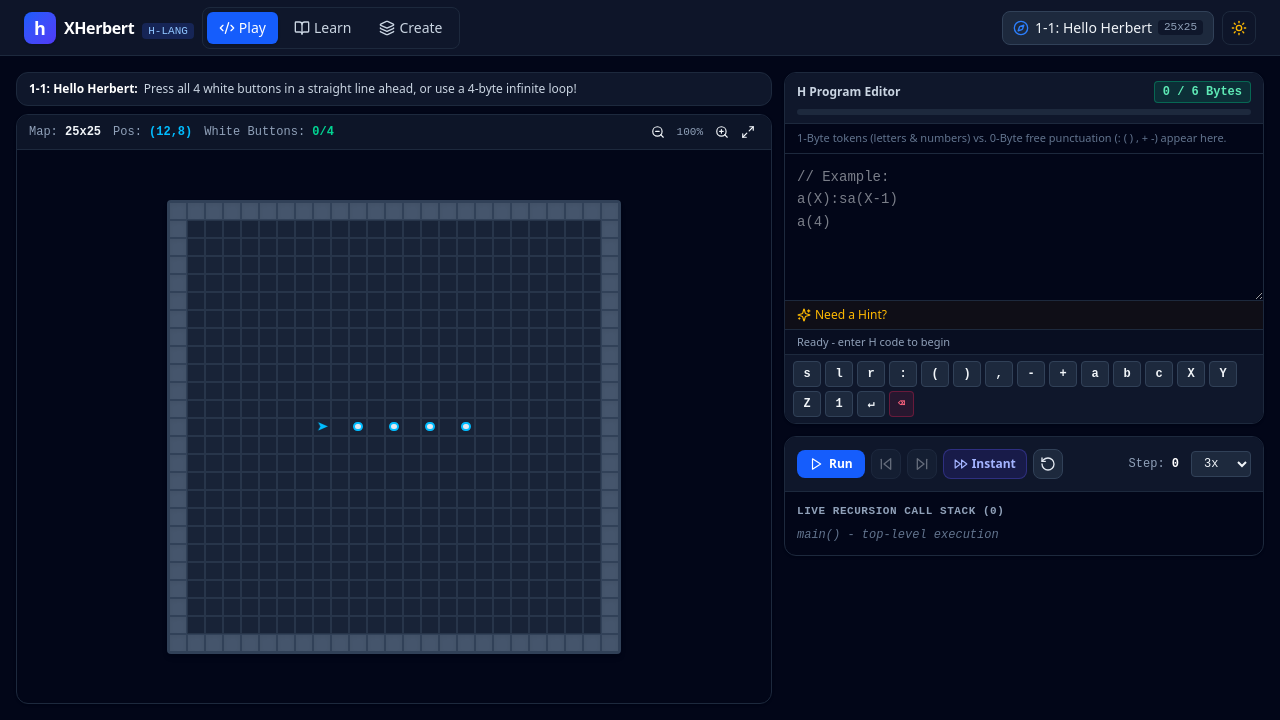
Test: XHerbert Full UI Integration Tests (Play, Learn, Create & Theme) › navigates to Create mode, resizes grid to even rectangular 30x26, saves custom level, and batch-imports .txt files
Click the button with test id "nav-create": (411, 28) [368,12,455,44]
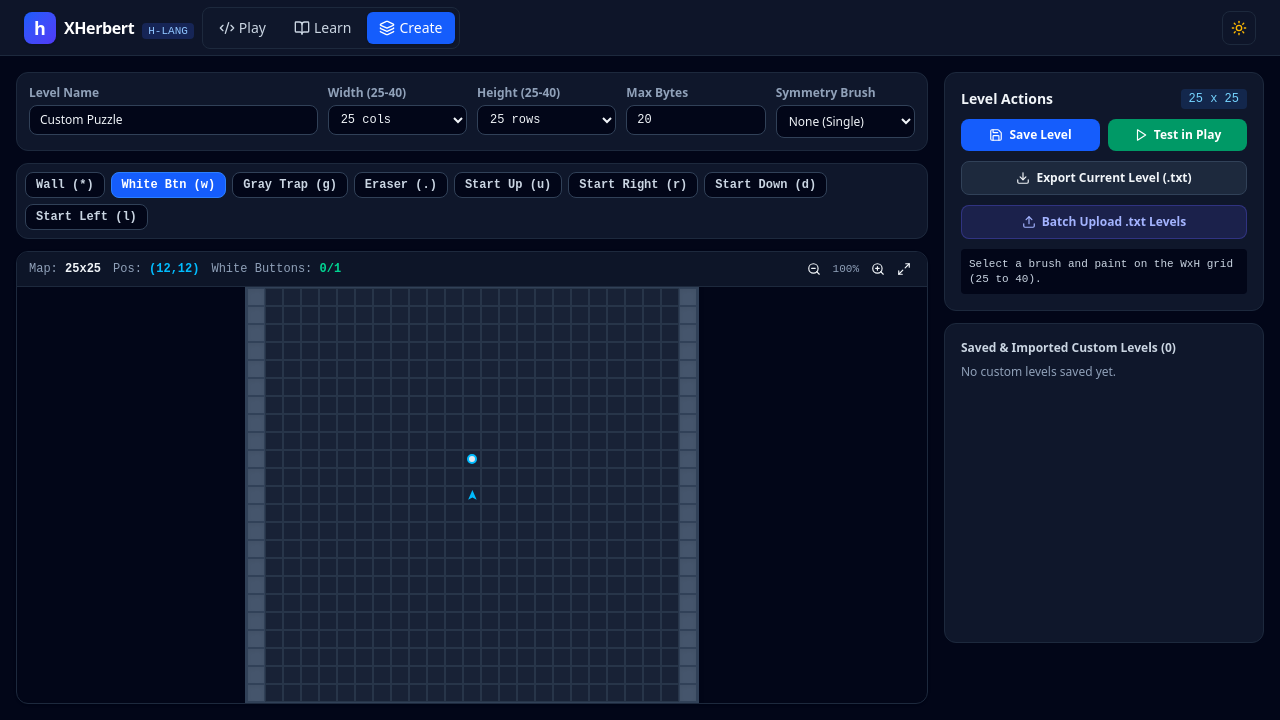
Result: the element with test id "editor-workspace" is shown
Select "30 cols" in the dropdown with test id "editor-width-select": (397, 120) [328,105,467,135]
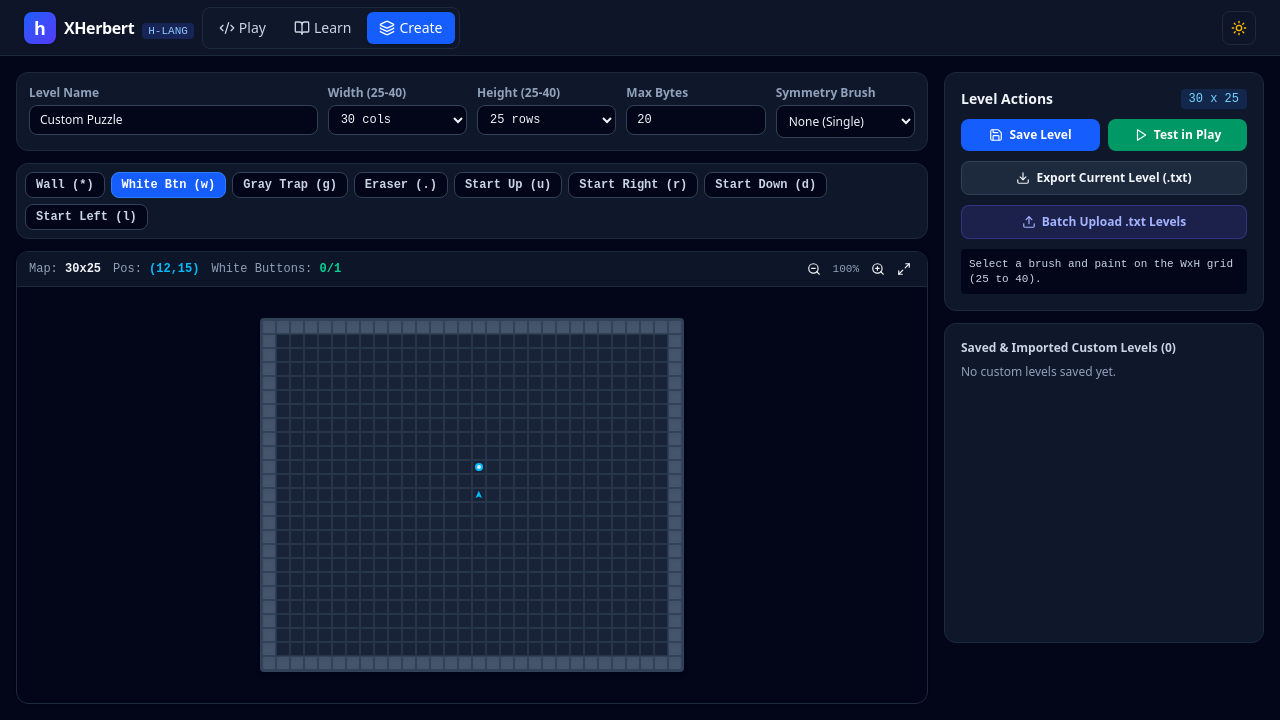
Select "26 rows" in the dropdown with test id "editor-height-select": (547, 120) [477,105,616,135]
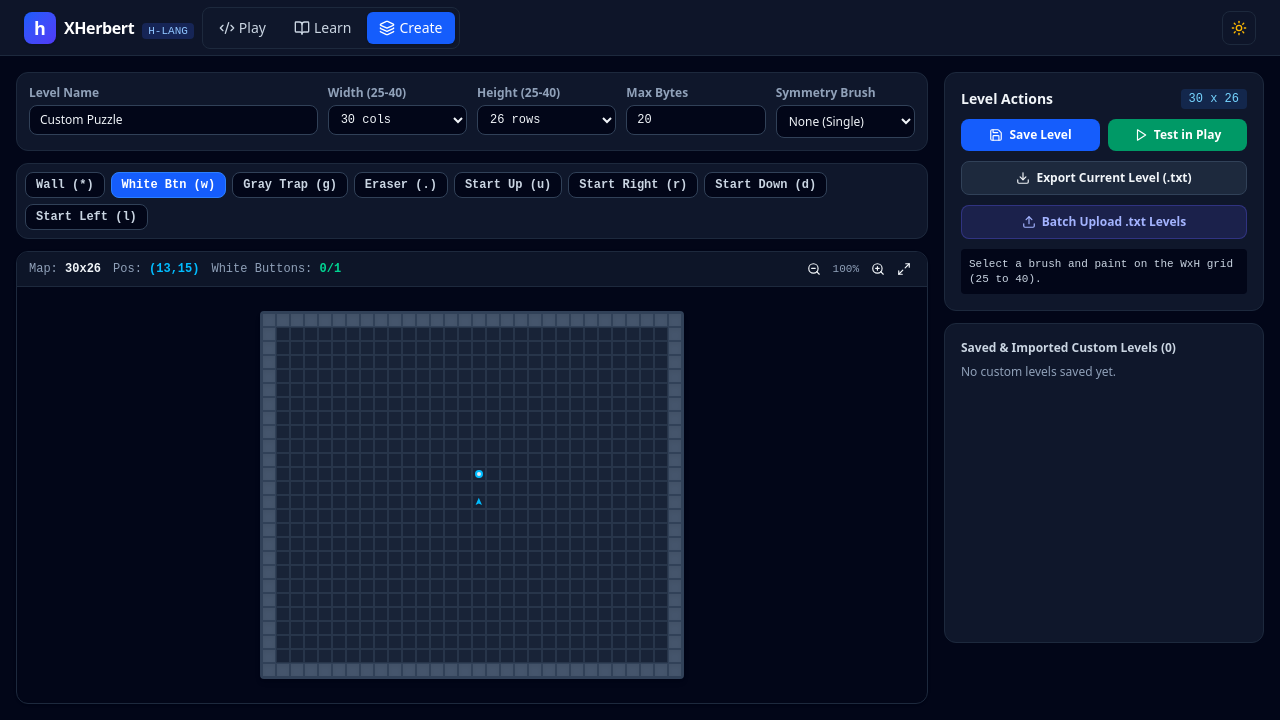
Result: the text with test id "editor-dim-indicator" reads "30 x 26" at [1181,89,1247,109]
Replace the text in the field with test id "editor-name-input" with "My Even Arena": (173, 120) [29,105,318,135]
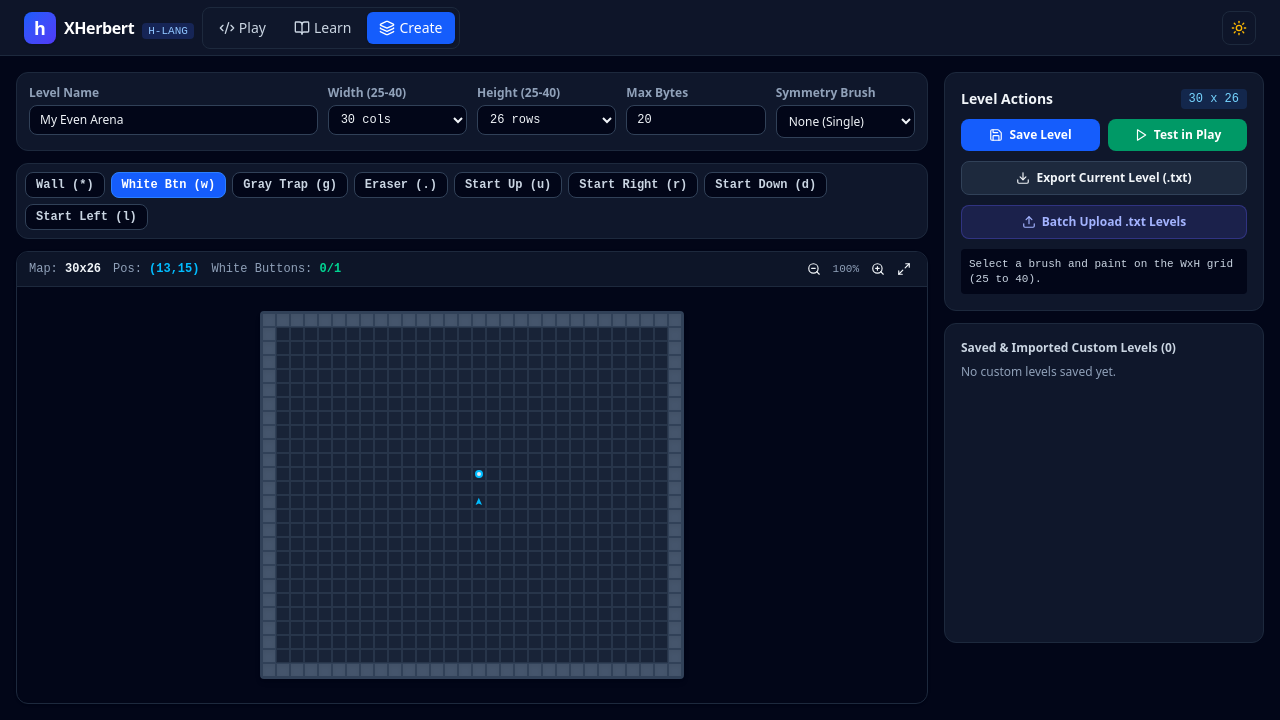
Click the button with test id "editor-save-btn": (1030, 135) [961,119,1100,151]
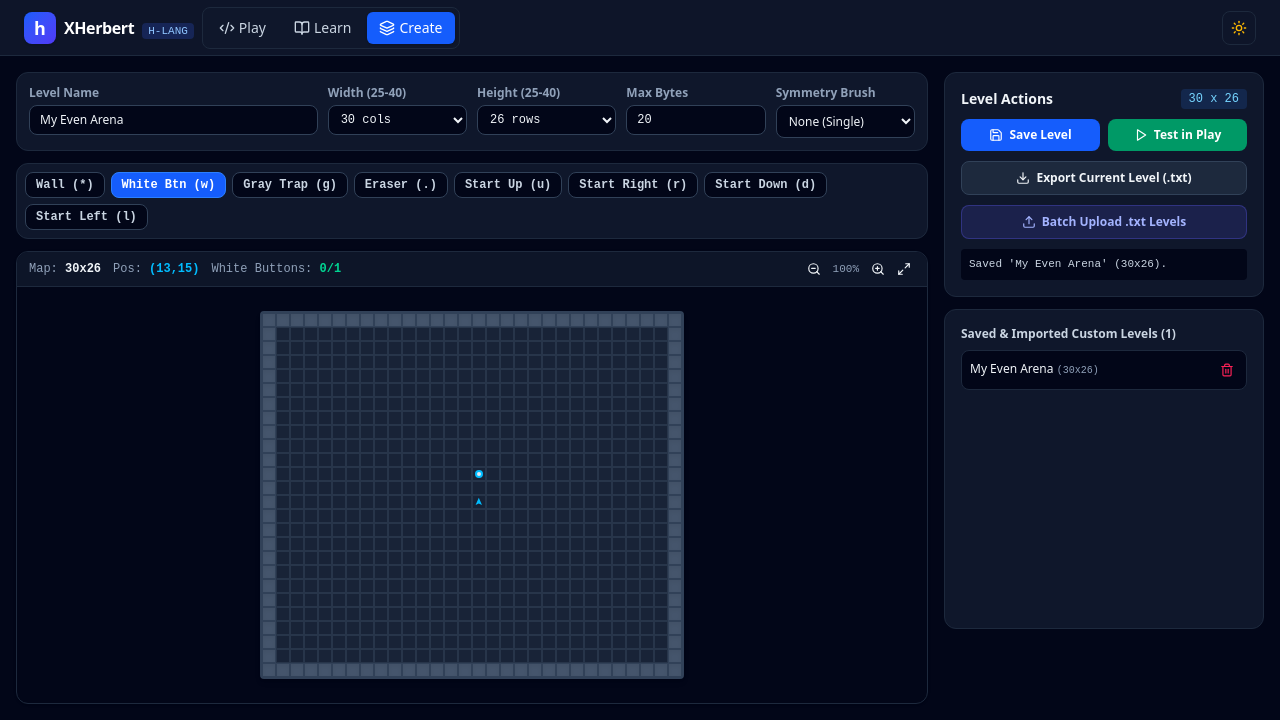
Result: the element with test id "custom-levels-list" shows "My Even Arena" at [970,362,1208,378]
